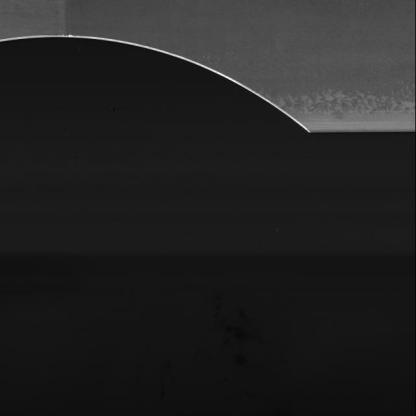crescent_gap: (0, 31, 330, 144)
welding_line: (45, 0, 82, 53)
